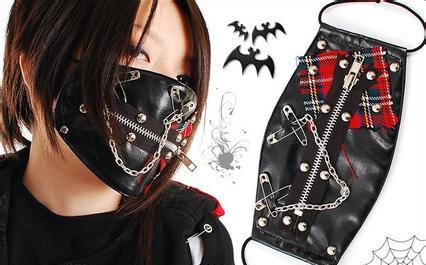OK: (47, 21, 217, 191)
